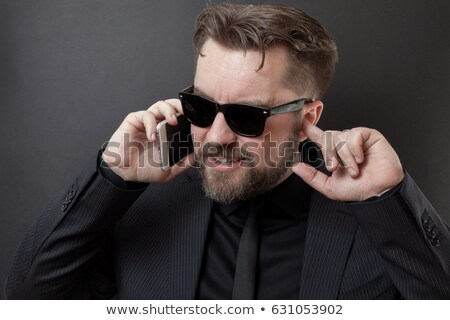phone: (148, 103, 195, 172)
talk: (112, 86, 299, 208)
